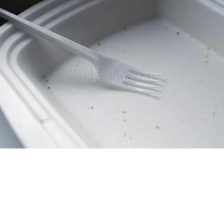foam_box: (0, 0, 224, 147)
